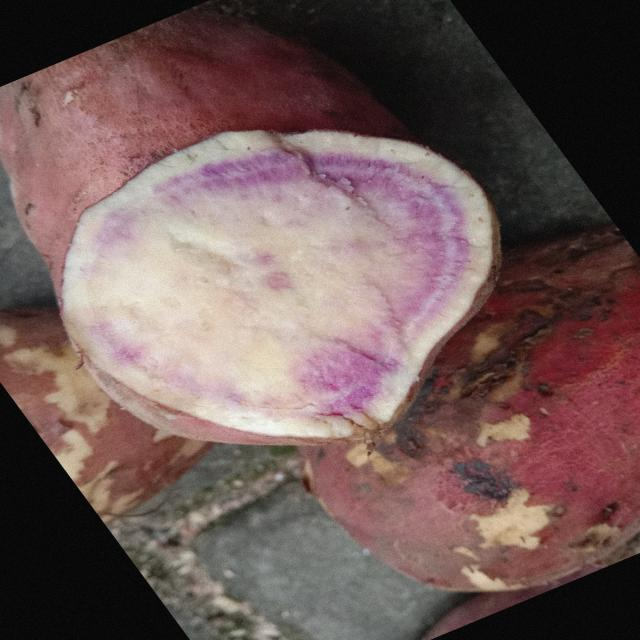Healthy Sweet Potato: (62, 130, 500, 444)
